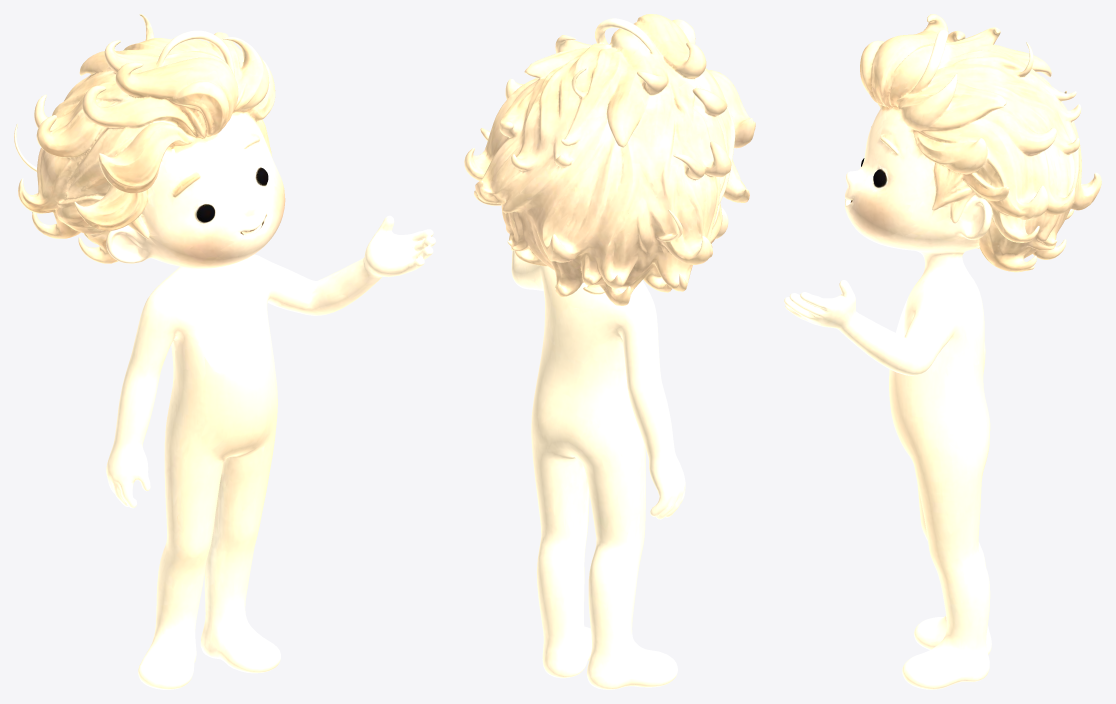
The model's file is rita-wanderer.glb.
The picture shows the model from 3 angles, left to right: view 1: azimuth 30°, elevation 25°; view 2: azimuth 150°, elevation 25°; view 3: azimuth 270°, elevation 25°; orthographic projection. The views are drawn at different scales.
Parts seen in each view (by area): view 1: Mesh_0; view 2: Mesh_0; view 3: Mesh_0.
Boxes of the visible parts, x1,y1,x2,y2 form: Mesh_0: (14,14,435,689); Mesh_0: (464,14,755,689); Mesh_0: (784,14,1101,689).
Size of the model in its own units: 0.928 by 1.9 by 0.8791.
Materials: 1 (1 with a texture image).
